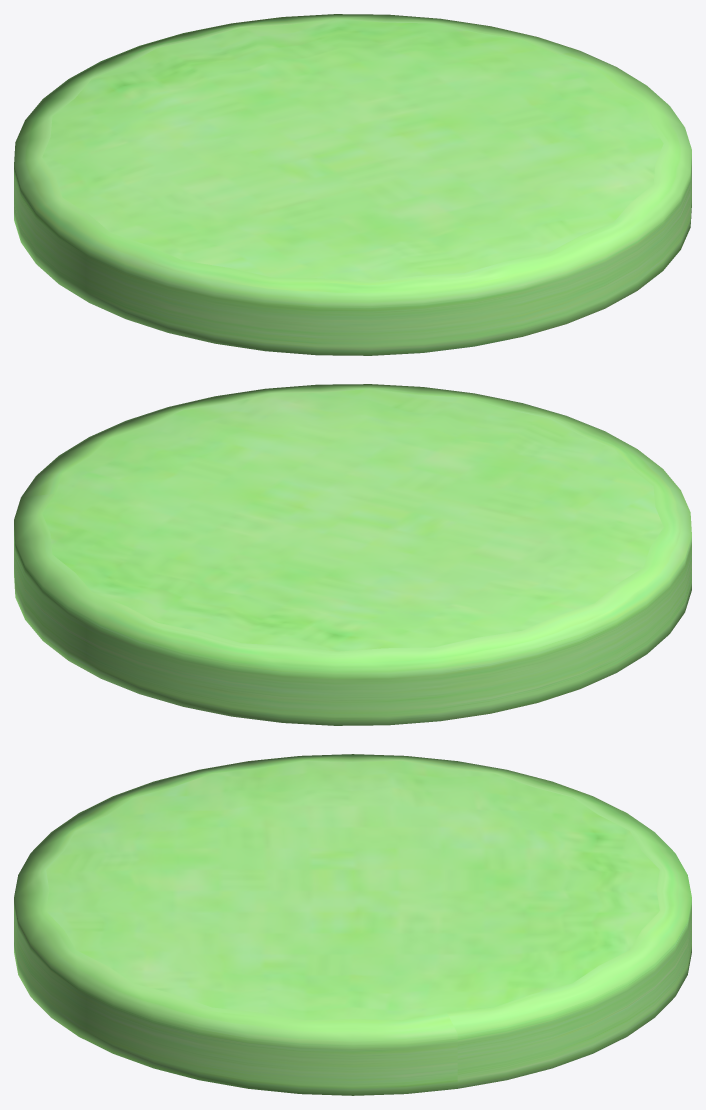
File: spree.fbx
The picture shows the model from 3 angles, top to bottom: view 1: azimuth 30°, elevation 25°; view 2: azimuth 150°, elevation 25°; view 3: azimuth 270°, elevation 25°; orthographic projection.
Parts seen in each view (by area): view 1: pCylinder1; view 2: pCylinder1; view 3: pCylinder1.
Part boxes in pixels (x1,y1,x2,y2): pCylinder1: [14, 14, 691, 355]; pCylinder1: [14, 384, 691, 725]; pCylinder1: [14, 754, 691, 1095].
Size of the model in its own units: 3.89 by 0.4658 by 3.89.
Materials: 1 (1 with a texture image).
